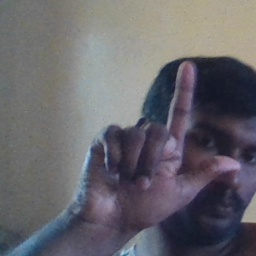L: (75, 61, 241, 227)
